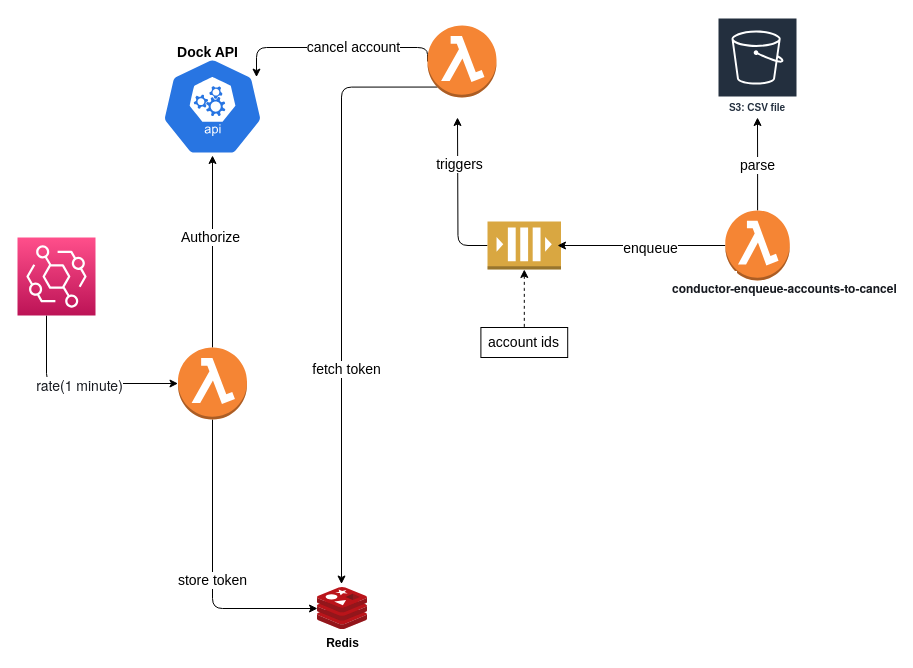
This 913x668 diagram has some shape labels left out. Each missing label, with the centre of its shape:
"conductor-accounts-cancellation" goes at pixel 461 61.
"get-conductor-token" goes at pixel 212 383.
